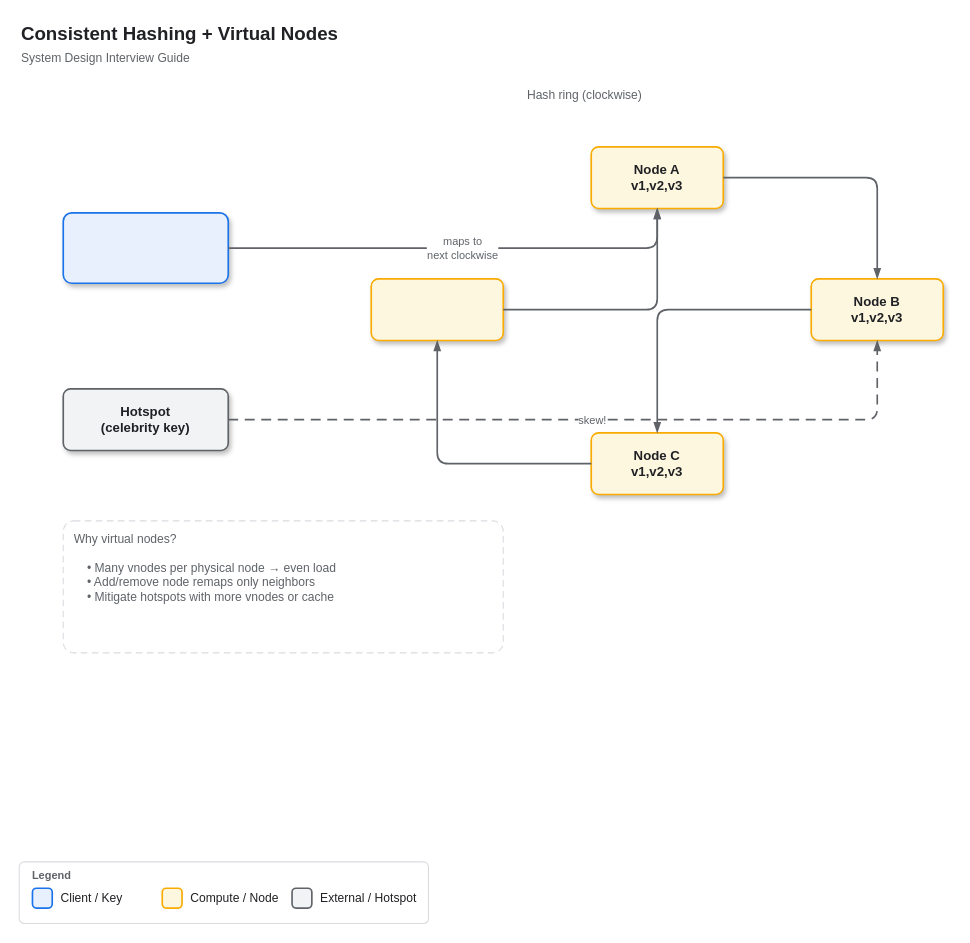
Some shapes in this 970 by 943 pixel diagram are drawn without their labels. The shapes that lost their labels are listed below. From the top down, each one's centre as x and y in pixels, then its label:
At point (146, 249): "key = user_42 hash → position".
At point (438, 310): "Node D v1,v2,v3".
